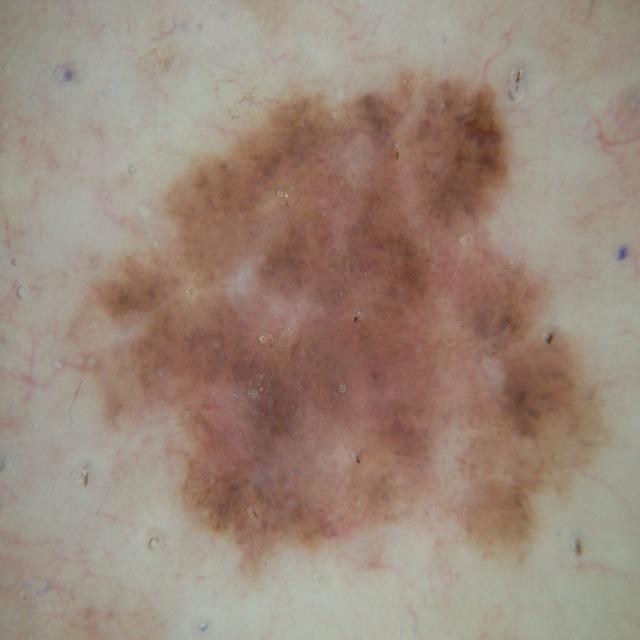Skin-Cancer Melanoma: (92, 52, 640, 630)
